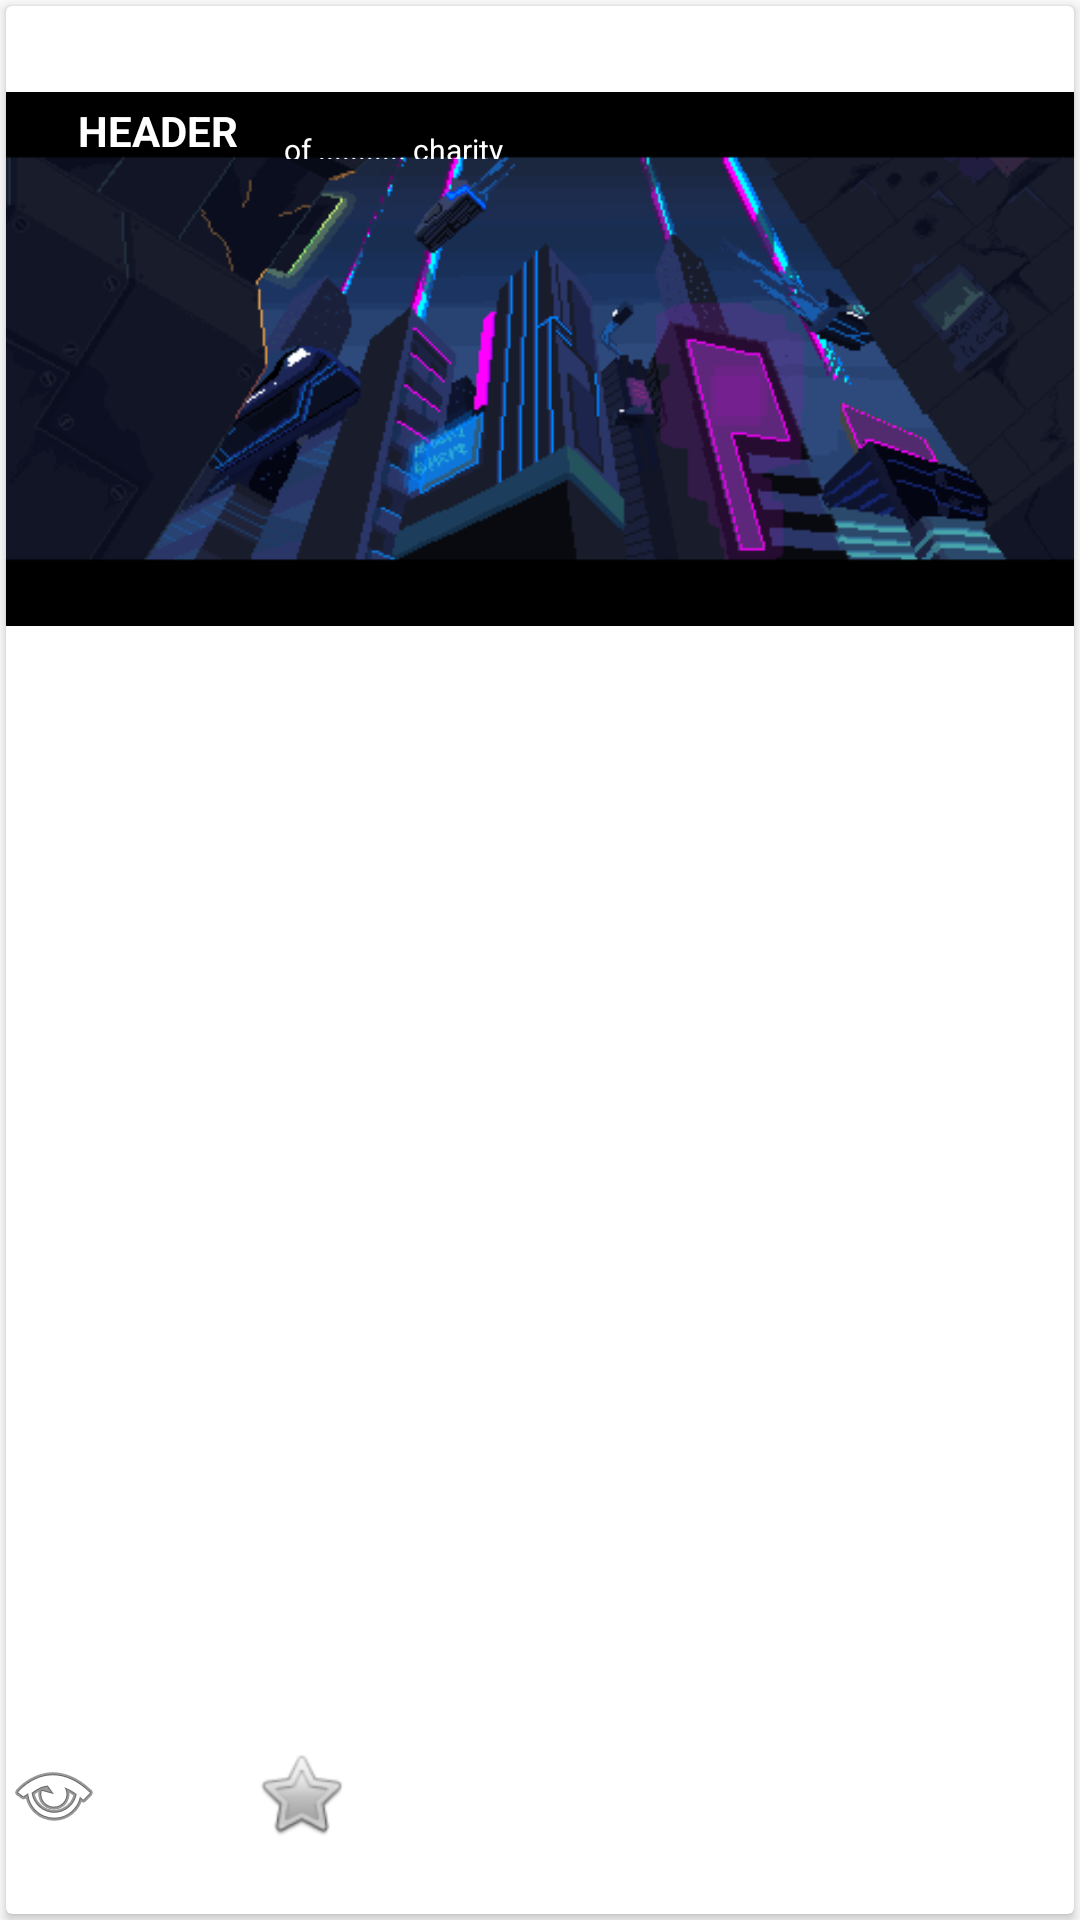

Point at icon controls on the screen. Image size 1080×1920, points as [x,y].
view: [54,1796]
